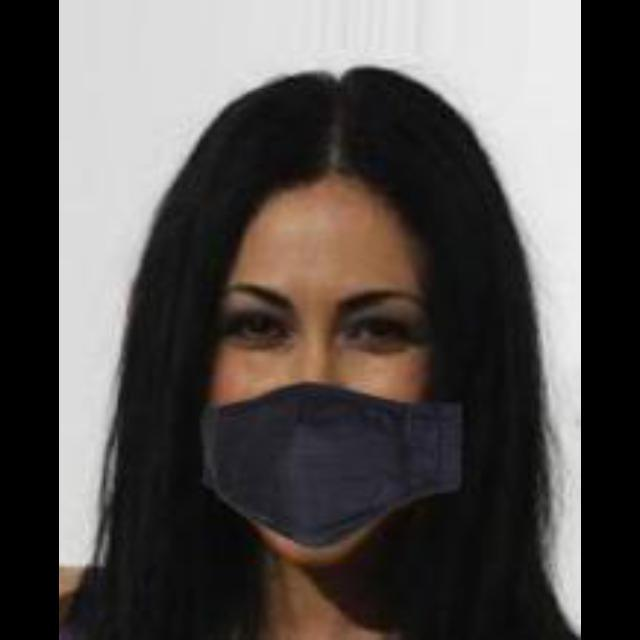suspicion: (110, 73, 516, 560)
